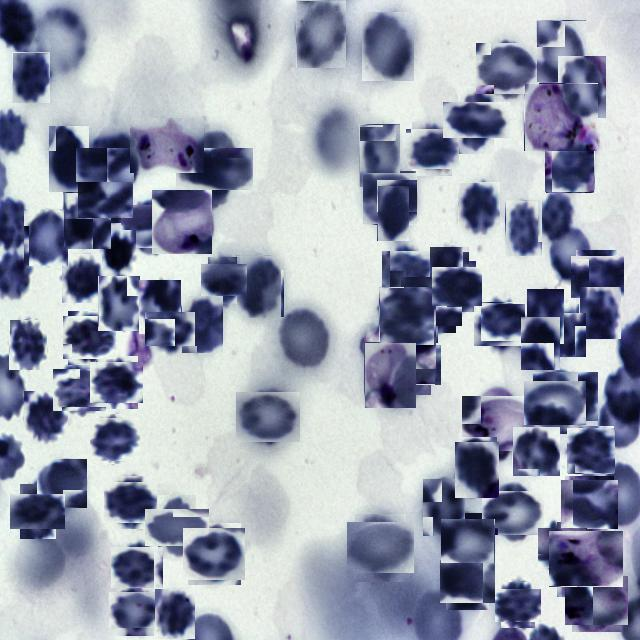red blood cell: (350, 518, 410, 578), (184, 139, 244, 199), (362, 12, 414, 81), (277, 306, 331, 372), (296, 0, 346, 68), (240, 388, 298, 446), (380, 286, 438, 344), (478, 41, 536, 98), (186, 525, 243, 583), (569, 572, 625, 628), (404, 274, 459, 330), (536, 21, 586, 82), (236, 255, 284, 318), (558, 56, 606, 118), (547, 222, 595, 283), (562, 478, 616, 532), (528, 376, 582, 430), (487, 486, 540, 540), (48, 125, 89, 192), (63, 192, 111, 249), (450, 94, 502, 146), (364, 172, 416, 224), (124, 201, 176, 252), (23, 208, 68, 266), (359, 124, 400, 187), (152, 502, 202, 552), (38, 458, 88, 508), (386, 340, 436, 390), (442, 557, 492, 607), (444, 516, 494, 566), (80, 170, 130, 220), (422, 478, 465, 536), (455, 442, 499, 498), (181, 296, 223, 354), (97, 275, 140, 331), (477, 300, 525, 350), (512, 426, 560, 476), (65, 314, 114, 362), (546, 144, 594, 193), (24, 391, 68, 444), (55, 366, 103, 414), (93, 358, 141, 406), (573, 253, 621, 301), (458, 182, 501, 235), (139, 280, 181, 334), (579, 286, 621, 339), (108, 478, 154, 526), (408, 126, 456, 172), (568, 426, 614, 474), (520, 316, 560, 370), (92, 416, 138, 462), (114, 544, 160, 590), (82, 142, 128, 188), (62, 254, 104, 304), (154, 588, 195, 639), (505, 200, 542, 256), (527, 289, 564, 344), (15, 489, 60, 534), (540, 525, 585, 570), (434, 264, 479, 309), (104, 133, 140, 189), (557, 372, 598, 421), (113, 588, 158, 632), (9, 319, 47, 370), (12, 52, 50, 103), (538, 192, 576, 242), (384, 249, 428, 292), (430, 246, 470, 292), (377, 185, 409, 241), (150, 308, 192, 350), (479, 302, 517, 346), (498, 585, 538, 625), (204, 260, 244, 300), (552, 312, 586, 357), (102, 230, 136, 272)
trophozoite: (524, 83, 598, 151), (552, 526, 618, 592), (466, 391, 531, 456), (130, 118, 204, 173), (151, 192, 213, 254), (364, 342, 416, 408)
